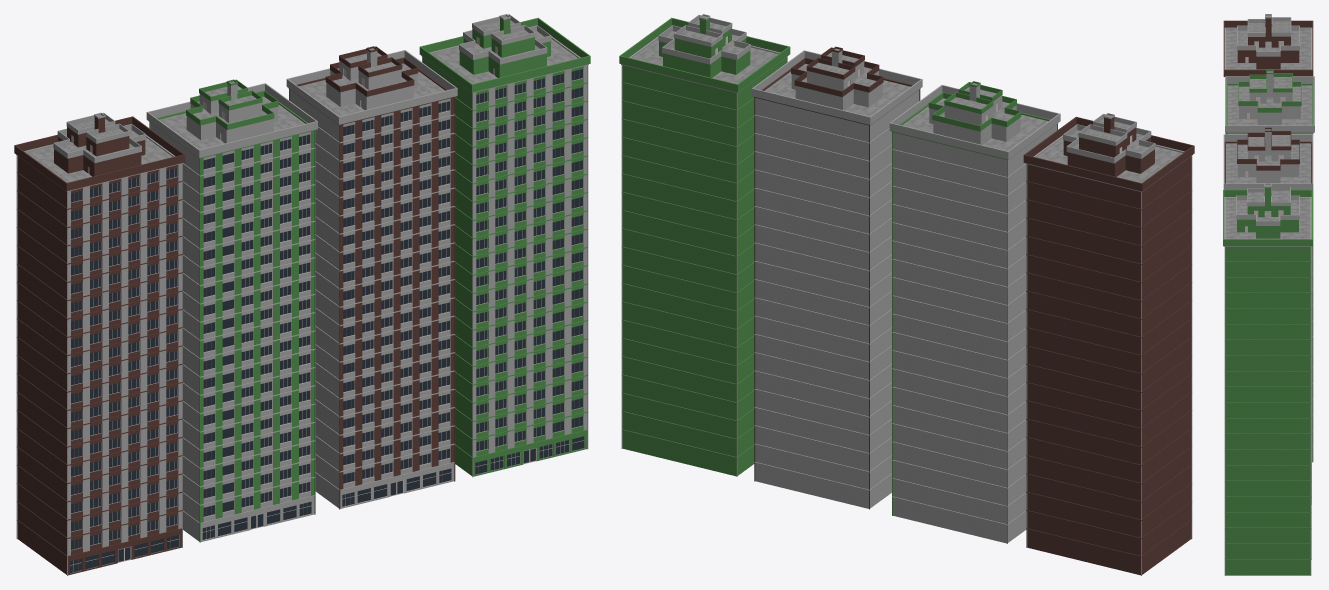
3 views of the same model, side by side, from view 1: azimuth 30°, elevation 25°; view 2: azimuth 150°, elevation 25°; view 3: azimuth 270°, elevation 25° (orthographic). The views are drawn at different scales.
Parts seen in each view (by area): view 1: Skyscraper 003|Wall 900|Dupli|, Skyscraper 001|Wall 001|Dupli|, Skyscraper 004|Wall 011|Dupli|, Skyscraper 002|Wall 007|Dupli|, Skyscraper 004|Windows 001.003|Dupli|4, Skyscraper 001|Windows 001|Dupli|4, Skyscraper 002|Windows 001.001|Dupli|4, Skyscraper 003|Windows 001.002|Dupli|4, Skyscraper 003|Pilasters 007|Dupli|3, Skyscraper 001|Pilasters 001|Dupli|3, Skyscraper 004|Pilasters 010|Dupli|3, Skyscraper 002|Pilasters 001.001|Dupli|3 (+32 smaller); view 2: Skyscraper 003|Wall 900|Dupli|, Skyscraper 001|Wall 001|Dupli|, Skyscraper 002|Wall 007|Dupli|, Skyscraper 004|Wall 011|Dupli|, Skyscraper 003|Pilasters 007|Dupli|3, Skyscraper 001|Pilasters 001|Dupli|3, Skyscraper 002|Pilasters 001.001|Dupli|3, Skyscraper 004|Pilasters 010|Dupli|3, Skyscraper 004|Wall 014|Dupli|7, Skyscraper 002|Wall 100|Dupli|7, Skyscraper 003|Wall 800|Dupli|7, Skyscraper 001|Wall 002|Dupli|7 (+24 smaller); view 3: Skyscraper 004|Wall 011|Dupli|, Skyscraper 004|Pilasters 010|Dupli|3, object 62, object 30, Skyscraper 004|Pilasters 006.001|Dupli|2, object 46, object 14, Skyscraper 004|Wall 014|Dupli|7, Skyscraper 002|Wall 100|Dupli|7, Skyscraper 003|Wall 800|Dupli|7, Skyscraper 001|Wall 002|Dupli|7, Skyscraper 003|Wall 300|Dupli|8 (+30 smaller).
Part boxes in pixels (bbox=[...]): Skyscraper 003|Wall 900|Dupli|: bbox=[17, 156, 181, 575]; Skyscraper 001|Wall 001|Dupli|: bbox=[290, 89, 454, 508]; Skyscraper 004|Wall 011|Dupli|: bbox=[423, 57, 587, 476]; Skyscraper 002|Wall 007|Dupli|: bbox=[150, 123, 314, 541]; Skyscraper 004|Windows 001.003|Dupli|4: bbox=[476, 69, 583, 451]; Skyscraper 001|Windows 001|Dupli|4: bbox=[343, 101, 450, 483]; Skyscraper 002|Windows 001.001|Dupli|4: bbox=[203, 134, 310, 516]; Skyscraper 003|Windows 001.002|Dupli|4: bbox=[71, 167, 177, 550]; Skyscraper 003|Pilasters 007|Dupli|3: bbox=[16, 172, 182, 556]; Skyscraper 001|Pilasters 001|Dupli|3: bbox=[315, 114, 455, 490]; Skyscraper 004|Pilasters 010|Dupli|3: bbox=[455, 82, 588, 458]; Skyscraper 002|Pilasters 001.001|Dupli|3: bbox=[183, 147, 315, 523]; Skyscraper 003|Wall 900|Dupli|: bbox=[1027, 156, 1191, 575]; Skyscraper 001|Wall 001|Dupli|: bbox=[755, 90, 919, 508]; Skyscraper 002|Wall 007|Dupli|: bbox=[893, 124, 1056, 543]; Skyscraper 004|Wall 011|Dupli|: bbox=[622, 57, 786, 476]; Skyscraper 003|Pilasters 007|Dupli|3: bbox=[1026, 172, 1192, 557]; Skyscraper 001|Pilasters 001|Dupli|3: bbox=[754, 114, 891, 490]; Skyscraper 002|Pilasters 001.001|Dupli|3: bbox=[892, 149, 1026, 525]; Skyscraper 004|Pilasters 010|Dupli|3: bbox=[621, 82, 754, 458]; Skyscraper 004|Wall 014|Dupli|7: bbox=[619, 17, 790, 92]; Skyscraper 002|Wall 100|Dupli|7: bbox=[889, 85, 1060, 159]; Skyscraper 003|Wall 800|Dupli|7: bbox=[1023, 116, 1194, 191]; Skyscraper 001|Wall 002|Dupli|7: bbox=[751, 50, 922, 124]; Skyscraper 004|Wall 011|Dupli|: bbox=[1225, 247, 1310, 575]; Skyscraper 004|Pilasters 010|Dupli|3: bbox=[1224, 247, 1311, 559]; object 62: bbox=[1225, 198, 1310, 239]; object 30: bbox=[1227, 85, 1312, 125]; Skyscraper 004|Pilasters 006.001|Dupli|2: bbox=[1224, 247, 1311, 575]; object 46: bbox=[1226, 29, 1310, 69]; object 14: bbox=[1226, 143, 1310, 183]; Skyscraper 004|Wall 014|Dupli|7: bbox=[1223, 190, 1312, 246]; Skyscraper 002|Wall 100|Dupli|7: bbox=[1225, 76, 1314, 132]; Skyscraper 003|Wall 800|Dupli|7: bbox=[1223, 20, 1313, 76]; Skyscraper 001|Wall 002|Dupli|7: bbox=[1223, 134, 1313, 190]; Skyscraper 003|Wall 300|Dupli|8: bbox=[1237, 50, 1299, 69].
Size of the model in its own units: 106 by 83.13 by 18.84.
6 materials, 4 textured.
